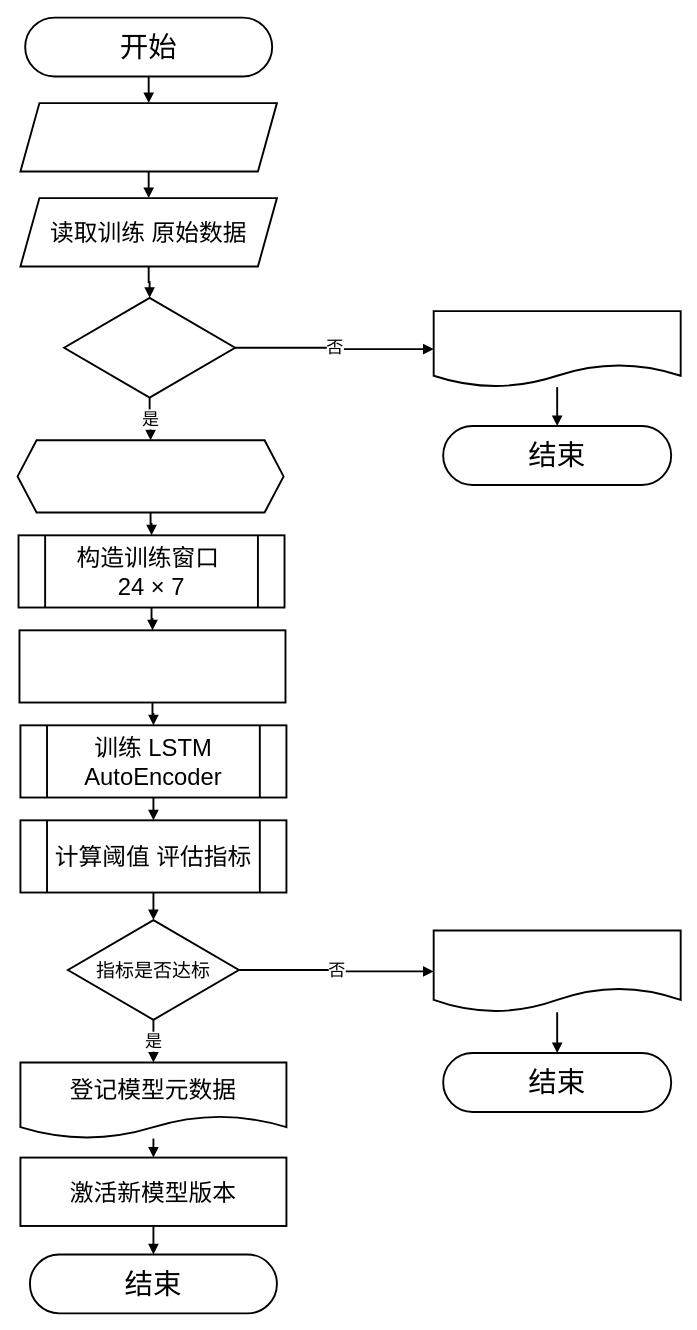
Image size: 697x1330. Some labels were removed from this diagram. The shapes that lost their labels are listed below. From the top down, each one's centre as x and y in pixels, then its label:
At point 148,137: "定时触发 训练任务".
At point 149,347: "样本是否充足".
At point 556,349: "样本不足日志".
At point 150,476: "数据清洗 样本标注".
At point 152,666: "划分训练集 验证集".
At point 556,971: "保留旧模型 记录日志".
